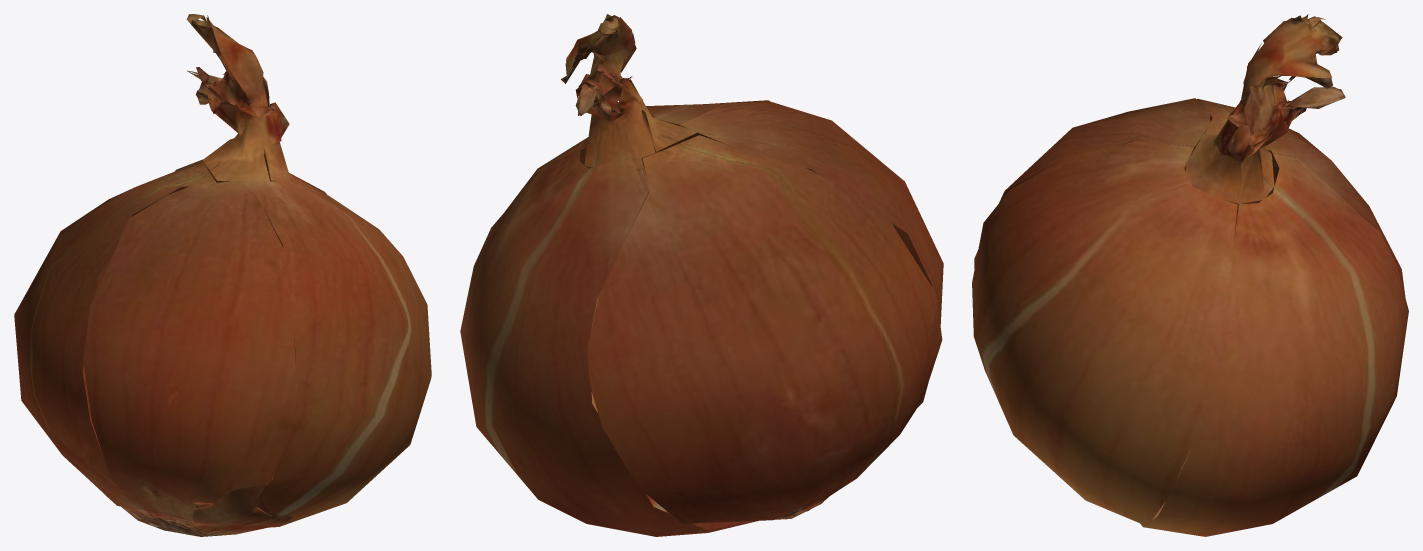
The model's file is isl_onion.glb.
3 renders of one model, left to right at view 1: azimuth 30°, elevation 25°; view 2: azimuth 150°, elevation 25°; view 3: azimuth 270°, elevation 25°, orthographic. The views are drawn at different scales.
Parts seen in each view (by area): view 1: yellow_onion; view 2: yellow_onion; view 3: yellow_onion.
Boxes of the visible parts, <box> form: yellow_onion: <box>14,14,431,536</box>; yellow_onion: <box>460,14,943,536</box>; yellow_onion: <box>972,14,1408,536</box>.
Bounding box in the file's own units: 0.0735 × 0.0866 × 0.0692.
1 material, 1 textured.
